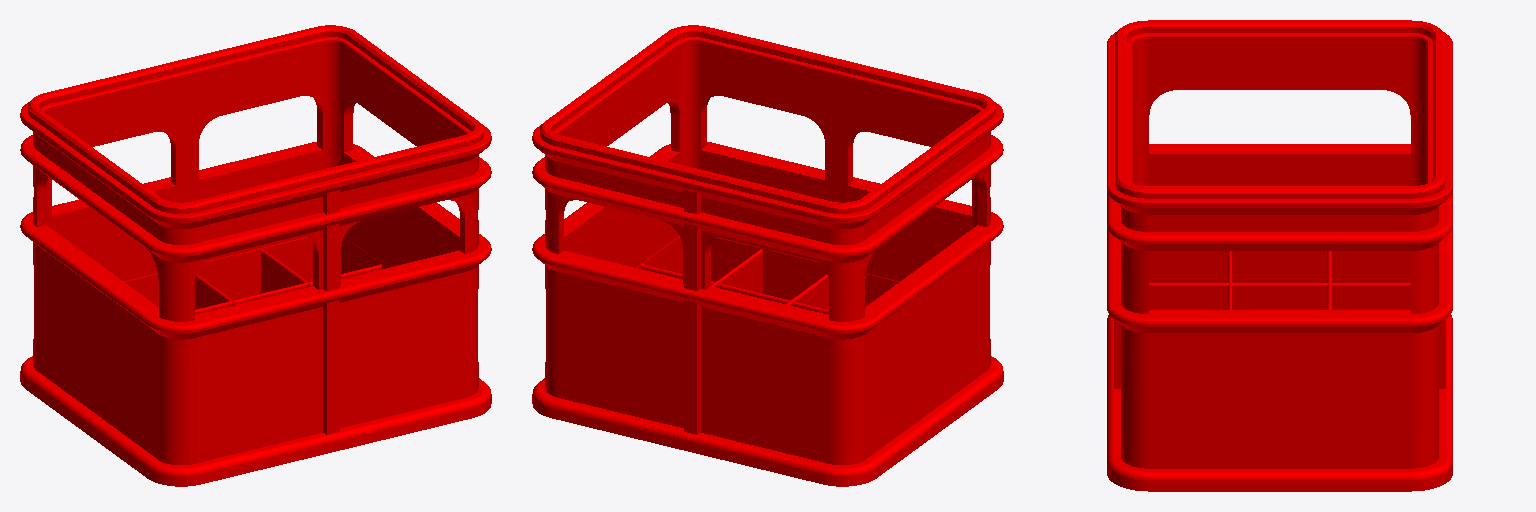
robot.urdf — red_cube:
<?xml version="1.0" ?>
<robot name="red_cube">
  <link name="base_link">
    <inertial>
      <origin rpy="0.0 0.0 0.0" xyz="0.0 0.0 0.0"/>
      <mass value="0.1"/>
      <inertia ixx="4.166666666666668e-05" ixy="0.0" ixz="0.0" iyy="4.166666666666668e-05" iyz="0.0" izz="4.166666666666668e-05"/>
    </inertial>
    <visual>
      <origin rpy="0.0 0.0 0.0" xyz="0.0 0.0 0.025"/>
      <geometry>
        <mesh filename="package://kr210_description/meshes/boxes/box.stl" scale="0.005 0.005 0.005"/>
      </geometry>
      <material name="red">
        <color rgba="1 0 0 1"/>
      </material>
    </visual>
    <collision>
      <origin rpy="0.0 0.0 0.0" xyz="0.0 0.0 0.025"/>
      <geometry>
        <mesh filename="package://kr210_description/meshes/boxes/box.stl" scale="0.005 0.005 0.005"/>
      </geometry>
    </collision>
  </link>
  <gazebo reference="base_link">
    <material>Gazebo/Red</material>
  </gazebo>
</robot>

--- Render facts (derived) ---
Views: 3 orthographic renders of the robot side by side, from view 1: azimuth 30°, elevation 25°; view 2: azimuth 150°, elevation 25°; view 3: azimuth 270°, elevation 25°.
Robot: red_cube — 1 links, 0 joints (none); root link base_link; default pose: every joint at zero.
Visible links, largest first — view 1: base_link; view 2: base_link; view 3: base_link.
Link boxes in pixels (x1=…): base_link: x1=20, y1=25, x2=491, y2=486; base_link: x1=532, y1=25, x2=1003, y2=486; base_link: x1=1107, y1=20, x2=1452, y2=491.
Bounding box of the posed robot: 0.4509 × 0.3709 × 0.3525 m (x, y, z).
1 mesh visuals loaded from 1 distinct referenced files (1 binary STL).